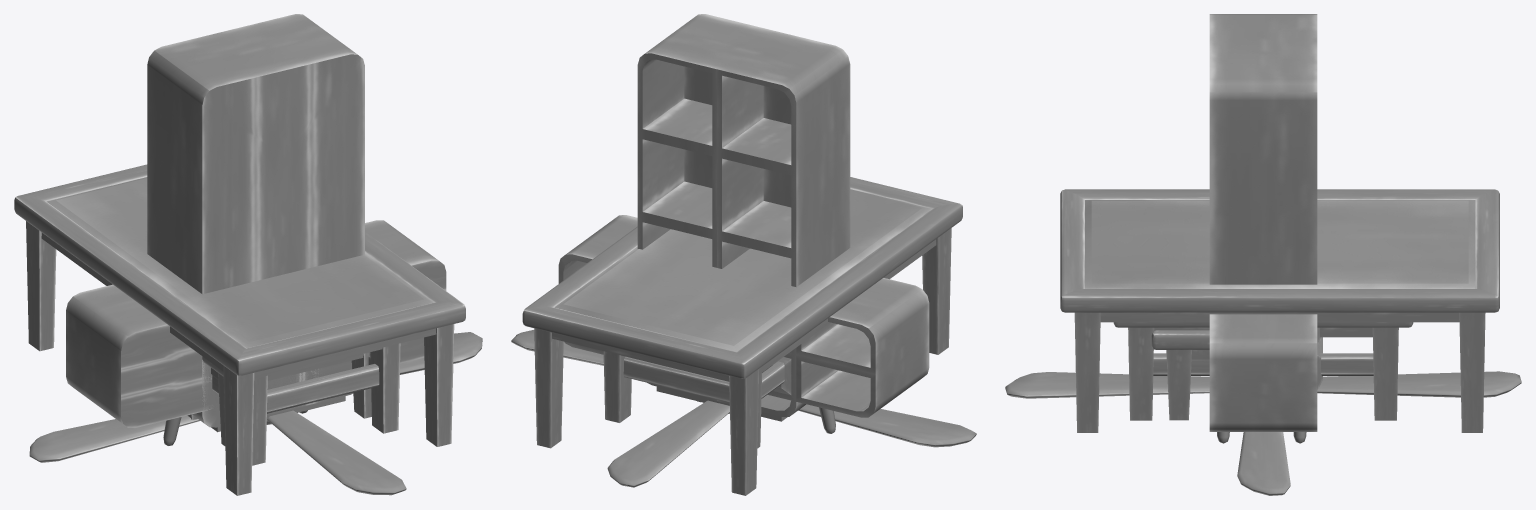
File: tables_Shelfs.fbx
3 views of the same model, side by side, from view 1: azimuth 30°, elevation 25°; view 2: azimuth 150°, elevation 25°; view 3: azimuth 270°, elevation 25° (orthographic). The views are drawn at different scales.
Parts seen in each view (by area): view 1: Shelf, table, tv_table, fan, coffee_Table, end_table; view 2: Shelf, table, tv_table, fan, coffee_Table; view 3: table, Shelf, tv_table, fan, coffee_Table, end_table.
Part boxes in pixels (left/top/right/bottom): Shelf: left=147, top=14, right=364, bottom=432; table: left=14, top=164, right=465, bottom=495; tv_table: left=66, top=220, right=446, bottom=445; fan: left=29, top=332, right=482, bottom=495; coffee_Table: left=212, top=343, right=400, bottom=465; end_table: left=187, top=352, right=371, bottom=445; Shelf: left=637, top=14, right=850, bottom=421; table: left=522, top=177, right=962, bottom=495; tv_table: left=558, top=215, right=929, bottom=433; fan: left=511, top=330, right=976, bottom=487; coffee_Table: left=603, top=351, right=784, bottom=448; table: left=1060, top=189, right=1499, bottom=432; Shelf: left=1209, top=14, right=1317, bottom=284; tv_table: left=1209, top=314, right=1322, bottom=443; fan: left=1005, top=371, right=1521, bottom=495; coffee_Table: left=1113, top=322, right=1413, bottom=420; end_table: left=1151, top=330, right=1209, bottom=420.
Bounding box in the file's own units: 439 × 333 × 439.
1 material, 1 textured.
